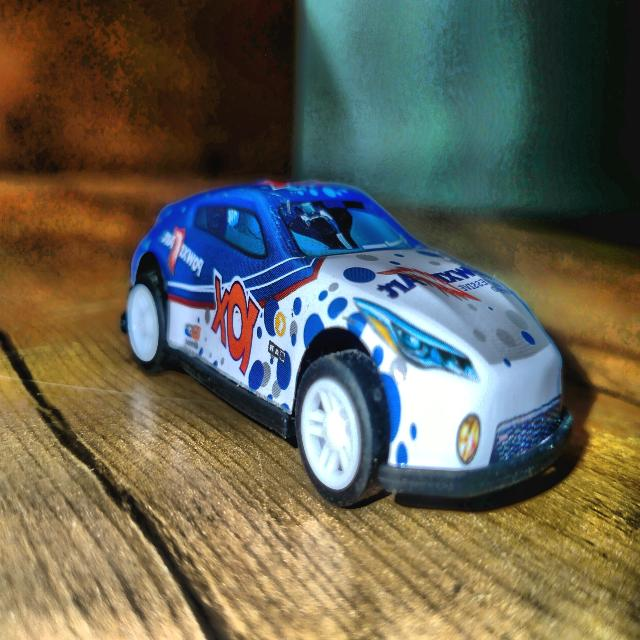Car: (120, 183, 572, 507)
